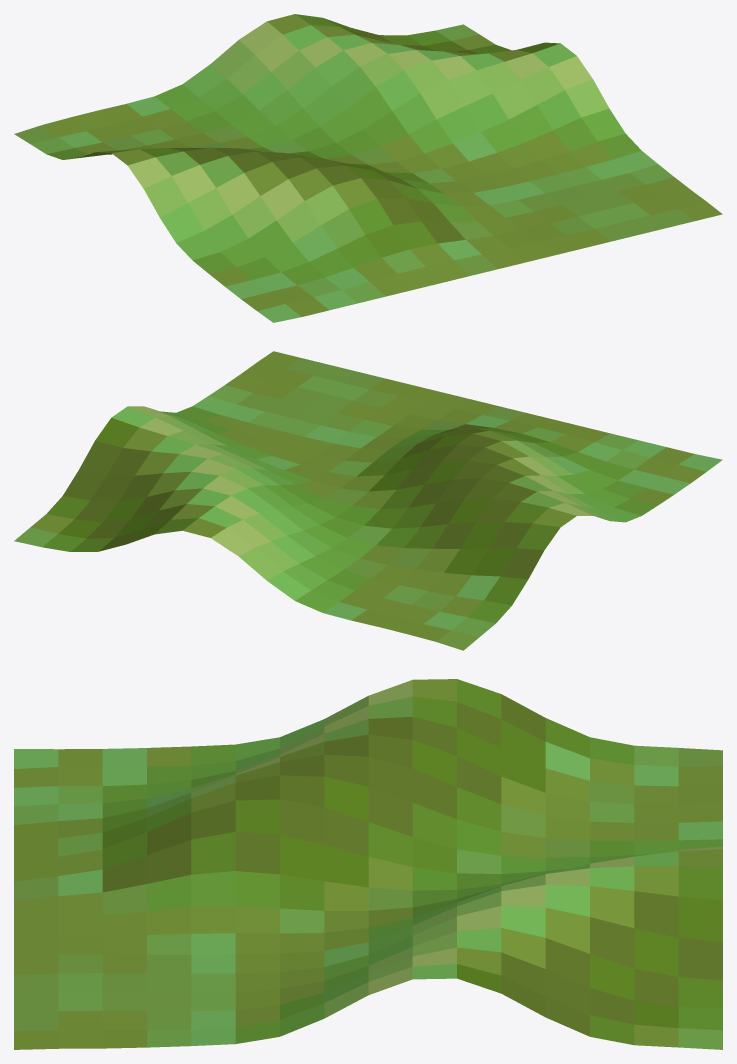
The model's file is hills11.obj.
3 renders of one model, top to bottom at view 1: azimuth 30°, elevation 25°; view 2: azimuth 150°, elevation 25°; view 3: azimuth 270°, elevation 25°, orthographic. The views are drawn at different scales.
Visible parts, largest first — view 1: hills11; view 2: hills11; view 3: hills11.
Part boxes in pixels (x1,y1,x2,y2): hills11: [14, 14, 722, 322]; hills11: [14, 351, 722, 650]; hills11: [14, 679, 722, 1049].
Size of the model in its own units: 1 by 0.1128 by 1.
Materials: 1 (1 with a texture image).
